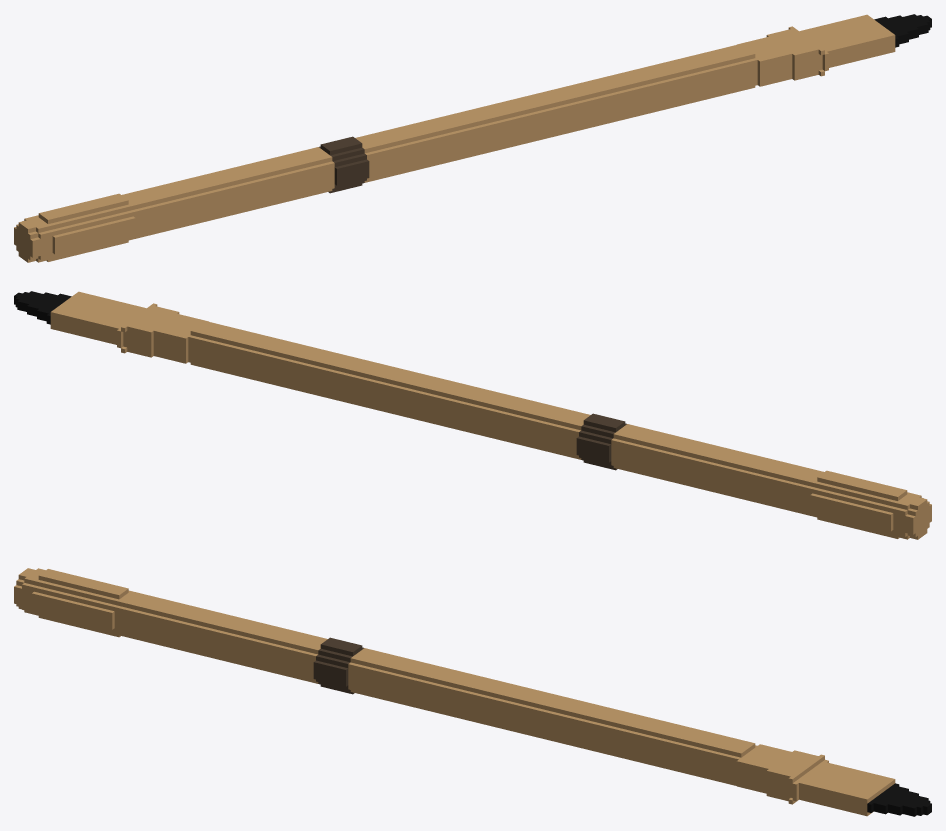
File: digging_stick.glb
3 views of the same model, one above another, from view 1: azimuth 30°, elevation 25°; view 2: azimuth 150°, elevation 25°; view 3: azimuth 330°, elevation 25° (orthographic).
Parts seen in each view (by area): view 1: digging_stick:compound; view 2: digging_stick:compound; view 3: digging_stick:compound.
Part boxes in pixels (bbox=[...]): digging_stick:compound: bbox=[14, 14, 931, 262]; digging_stick:compound: bbox=[14, 291, 931, 539]; digging_stick:compound: bbox=[14, 568, 931, 816].
Bounding box in the file's own units: 0.9 × 0.04 × 0.056.
